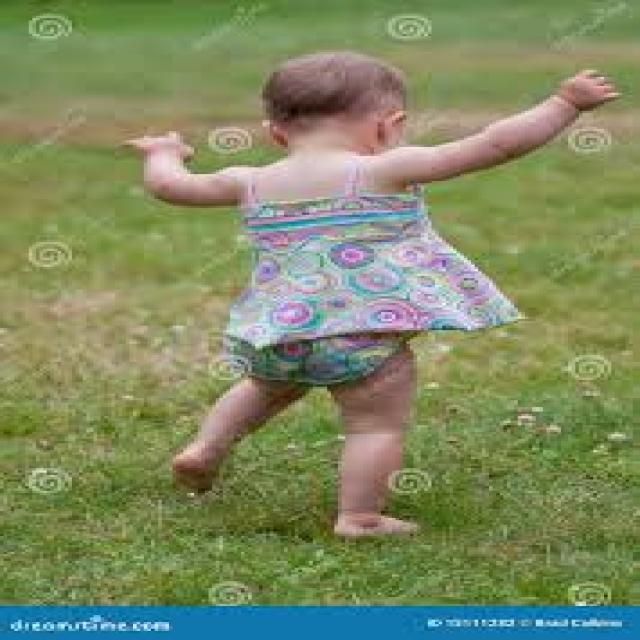Person: (126, 50, 618, 543)
